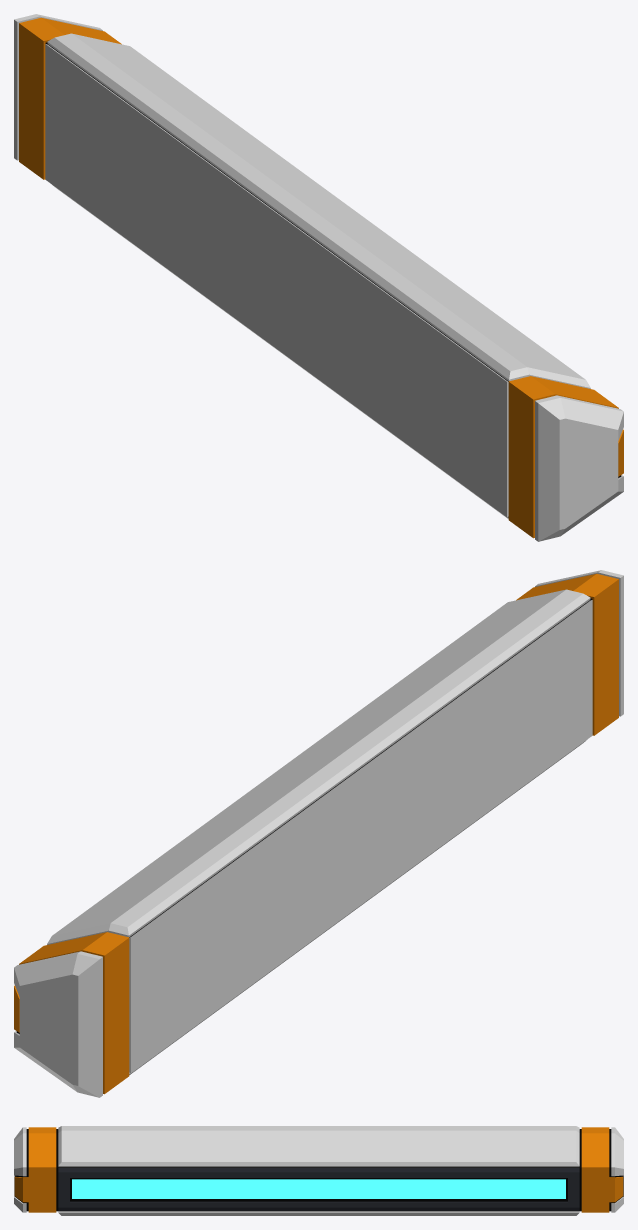
The model's file is SM_Wall_Lamp.fbx.
3 renders of one model, top to bottom at view 1: azimuth 30°, elevation 25°; view 2: azimuth 150°, elevation 25°; view 3: azimuth 270°, elevation 25°, orthographic. The views are drawn at different scales.
Parts seen in each view (by area): view 1: SM_Wall_Lamp; view 2: SM_Wall_Lamp; view 3: SM_Wall_Lamp.
Part boxes in pixels (x1,y1,x2,y2): SM_Wall_Lamp: [14, 14, 623, 541]; SM_Wall_Lamp: [14, 570, 623, 1097]; SM_Wall_Lamp: [14, 1126, 623, 1215].
Bounding box in the file's own units: 5.5 × 9.16 × 60.
